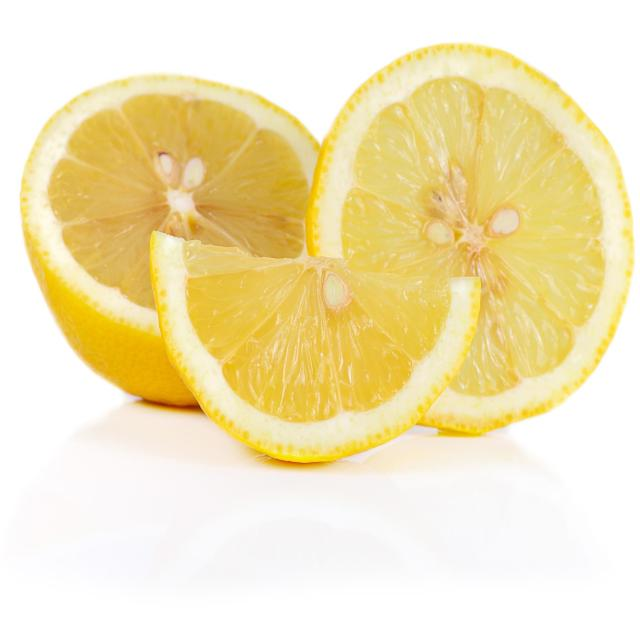lemon: (142, 224, 483, 468)
